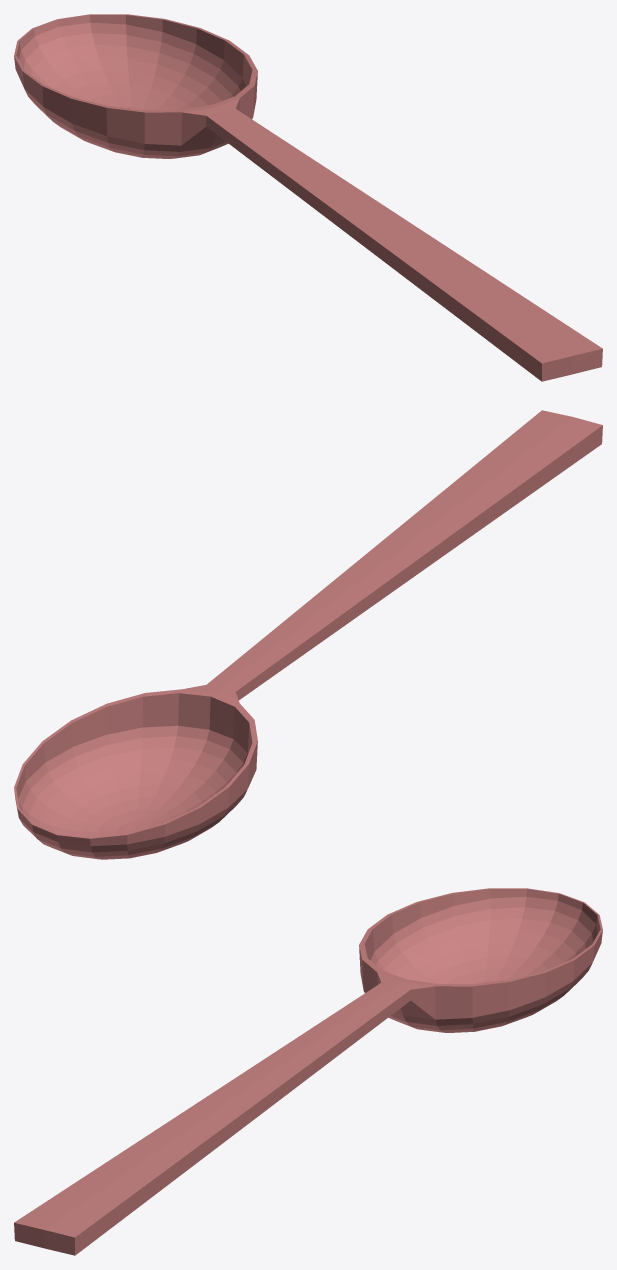
File: spoon.fbx
3 renders of one model, top to bottom at view 1: azimuth 30°, elevation 25°; view 2: azimuth 150°, elevation 25°; view 3: azimuth 330°, elevation 25°, orthographic.
Visible parts, largest first — view 1: diiner_objects_1:dner_objects:pSphere5; view 2: diiner_objects_1:dner_objects:pSphere5; view 3: diiner_objects_1:dner_objects:pSphere5.
Part boxes in pixels (<box>): diiner_objects_1:dner_objects:pSphere5: <box>14,14,602,381</box>; diiner_objects_1:dner_objects:pSphere5: <box>14,410,602,859</box>; diiner_objects_1:dner_objects:pSphere5: <box>14,888,602,1255</box>.
Size of the model in its own units: 1.85 by 0.9024 by 8.82.
